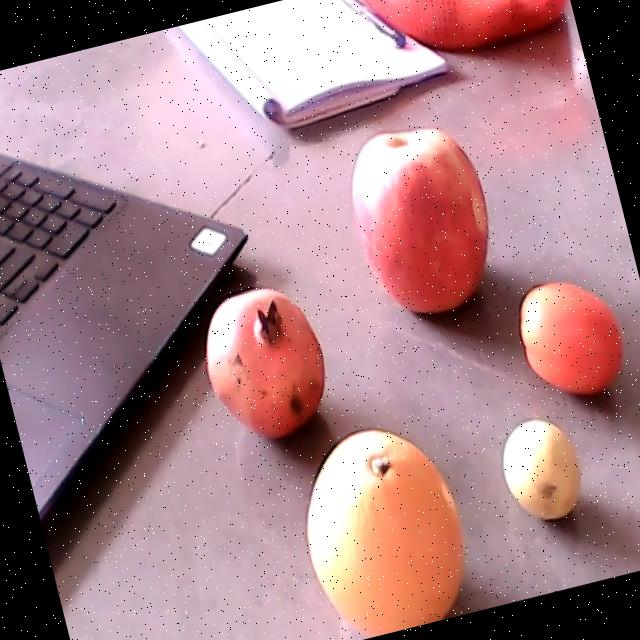apple: (352, 131, 488, 314)
lemon: (500, 415, 579, 518)
orange: (307, 429, 463, 633)
pomegranate: (204, 289, 326, 437)
tomato: (519, 279, 620, 392)
